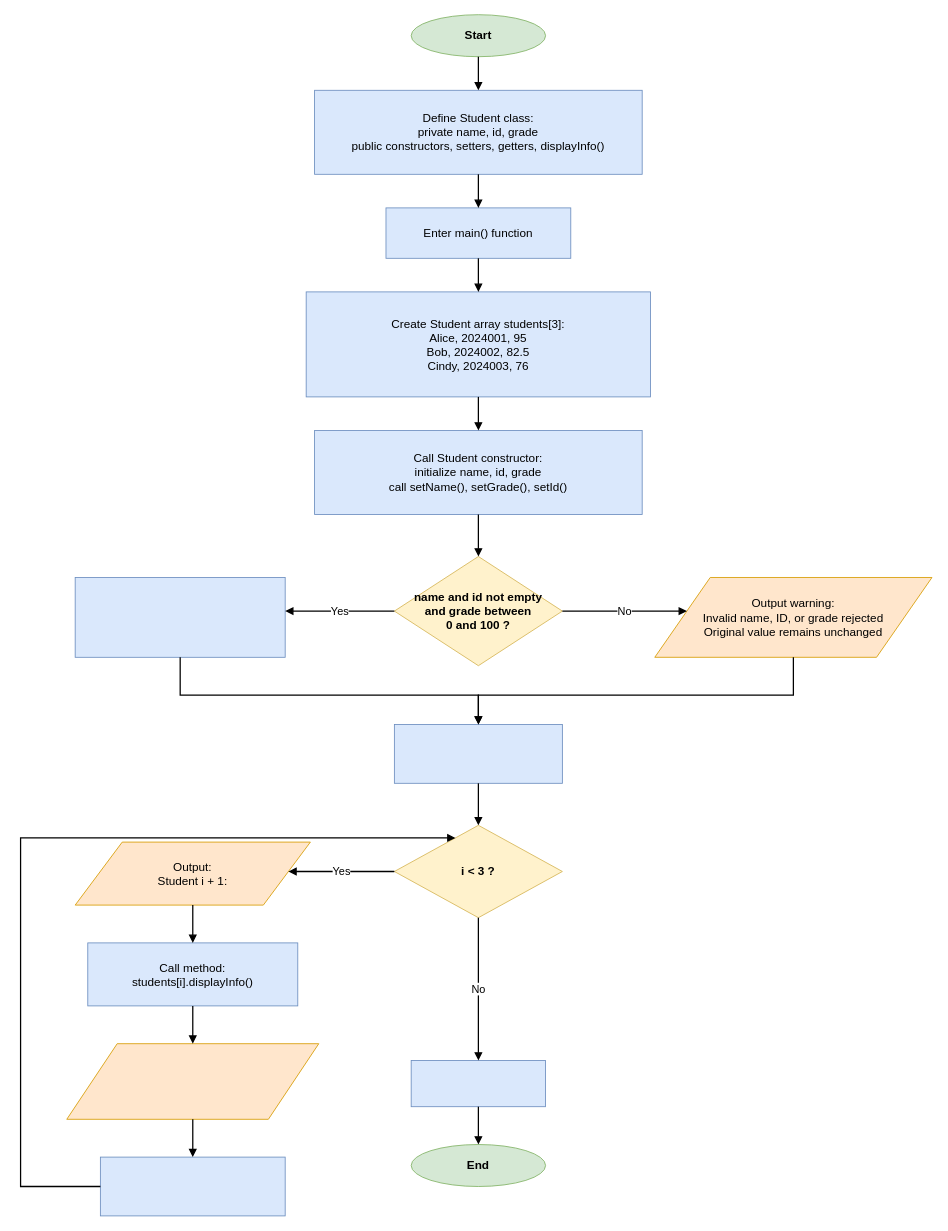
This 948x1231 diagram has some shape labels left out. Here are the shapes that lost their labels. From the top down, the box of each, then its label:
(74, 577, 285, 657): Assign valid values: name = n id = i grade = g
(394, 724, 562, 783): Initialize loop: i = 0
(66, 1043, 319, 1119): Output: Name, ID, Grade with fixed setprecision(2)
(410, 1060, 546, 1107): Return 0
(100, 1156, 285, 1216): Update loop: i++
